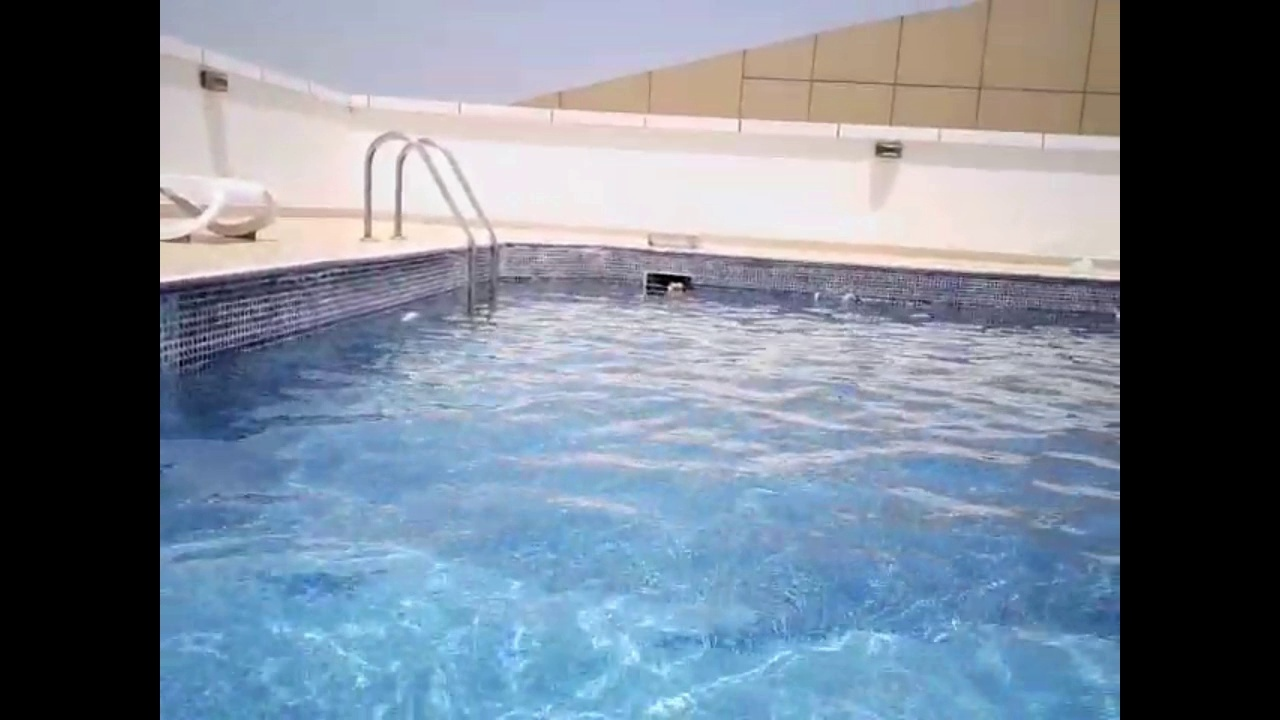debris: (808, 285, 829, 308), (841, 289, 864, 309), (665, 277, 688, 296)
